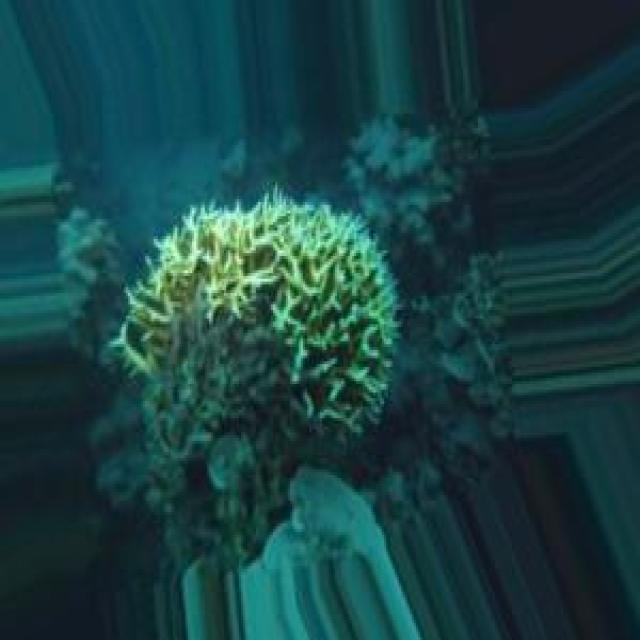Bleached: (117, 193, 396, 463)
